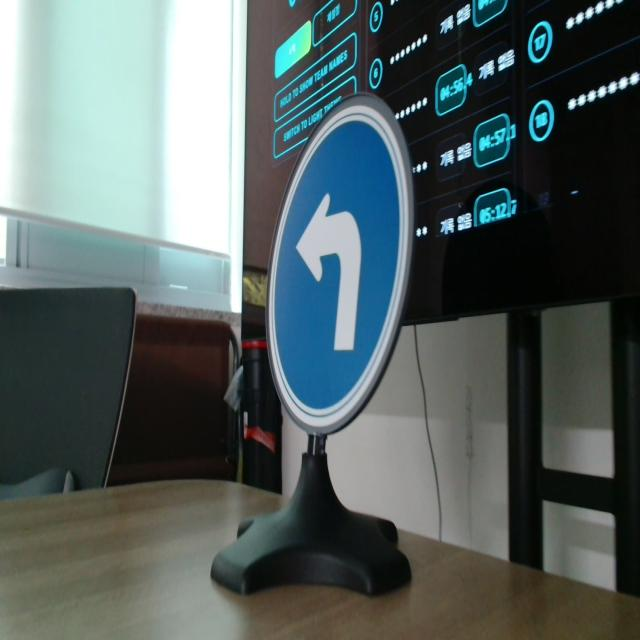left_direction: (261, 90, 433, 451)
